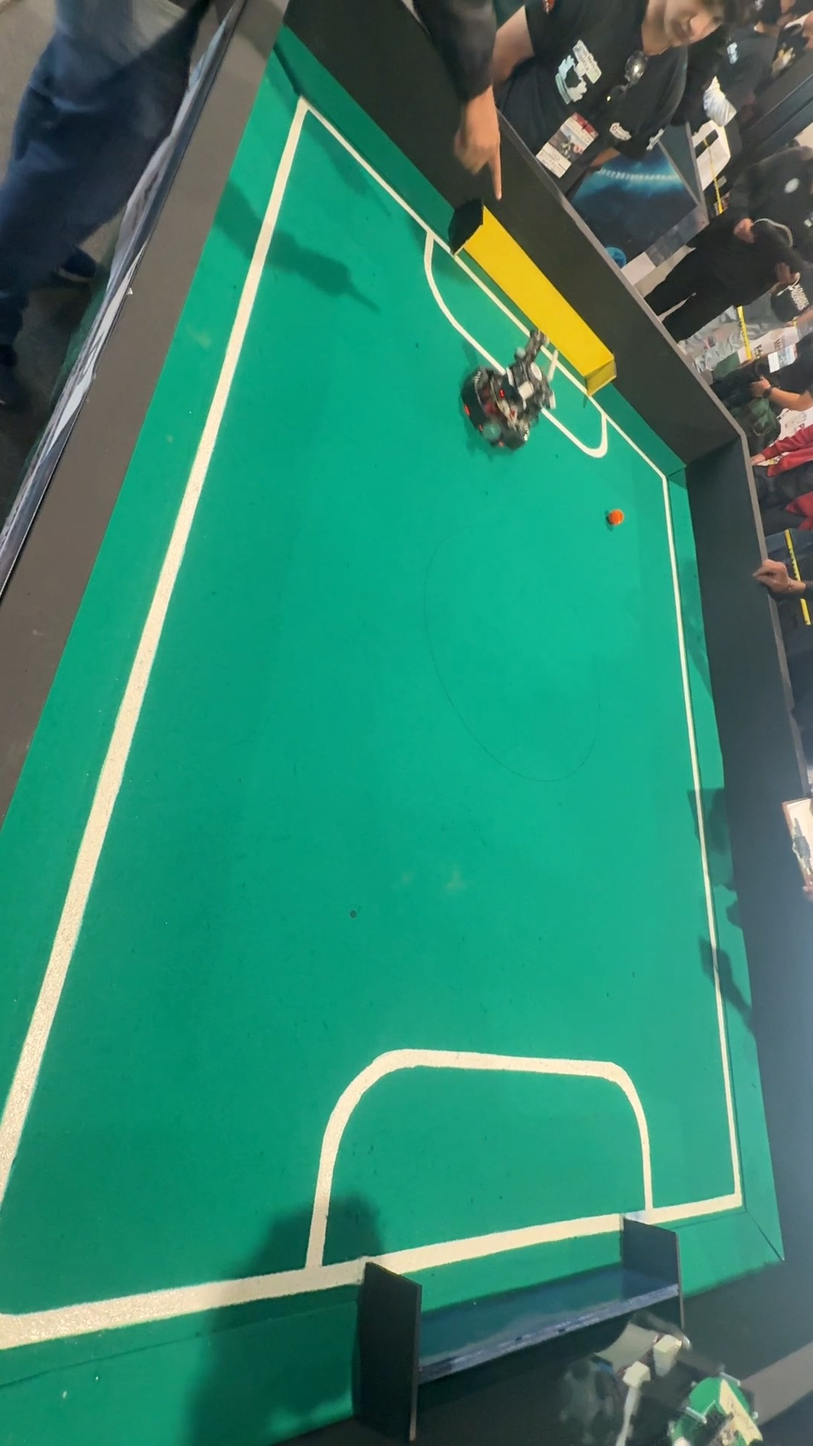Robot: (453, 302, 565, 466)
pelota: (604, 503, 633, 533)
